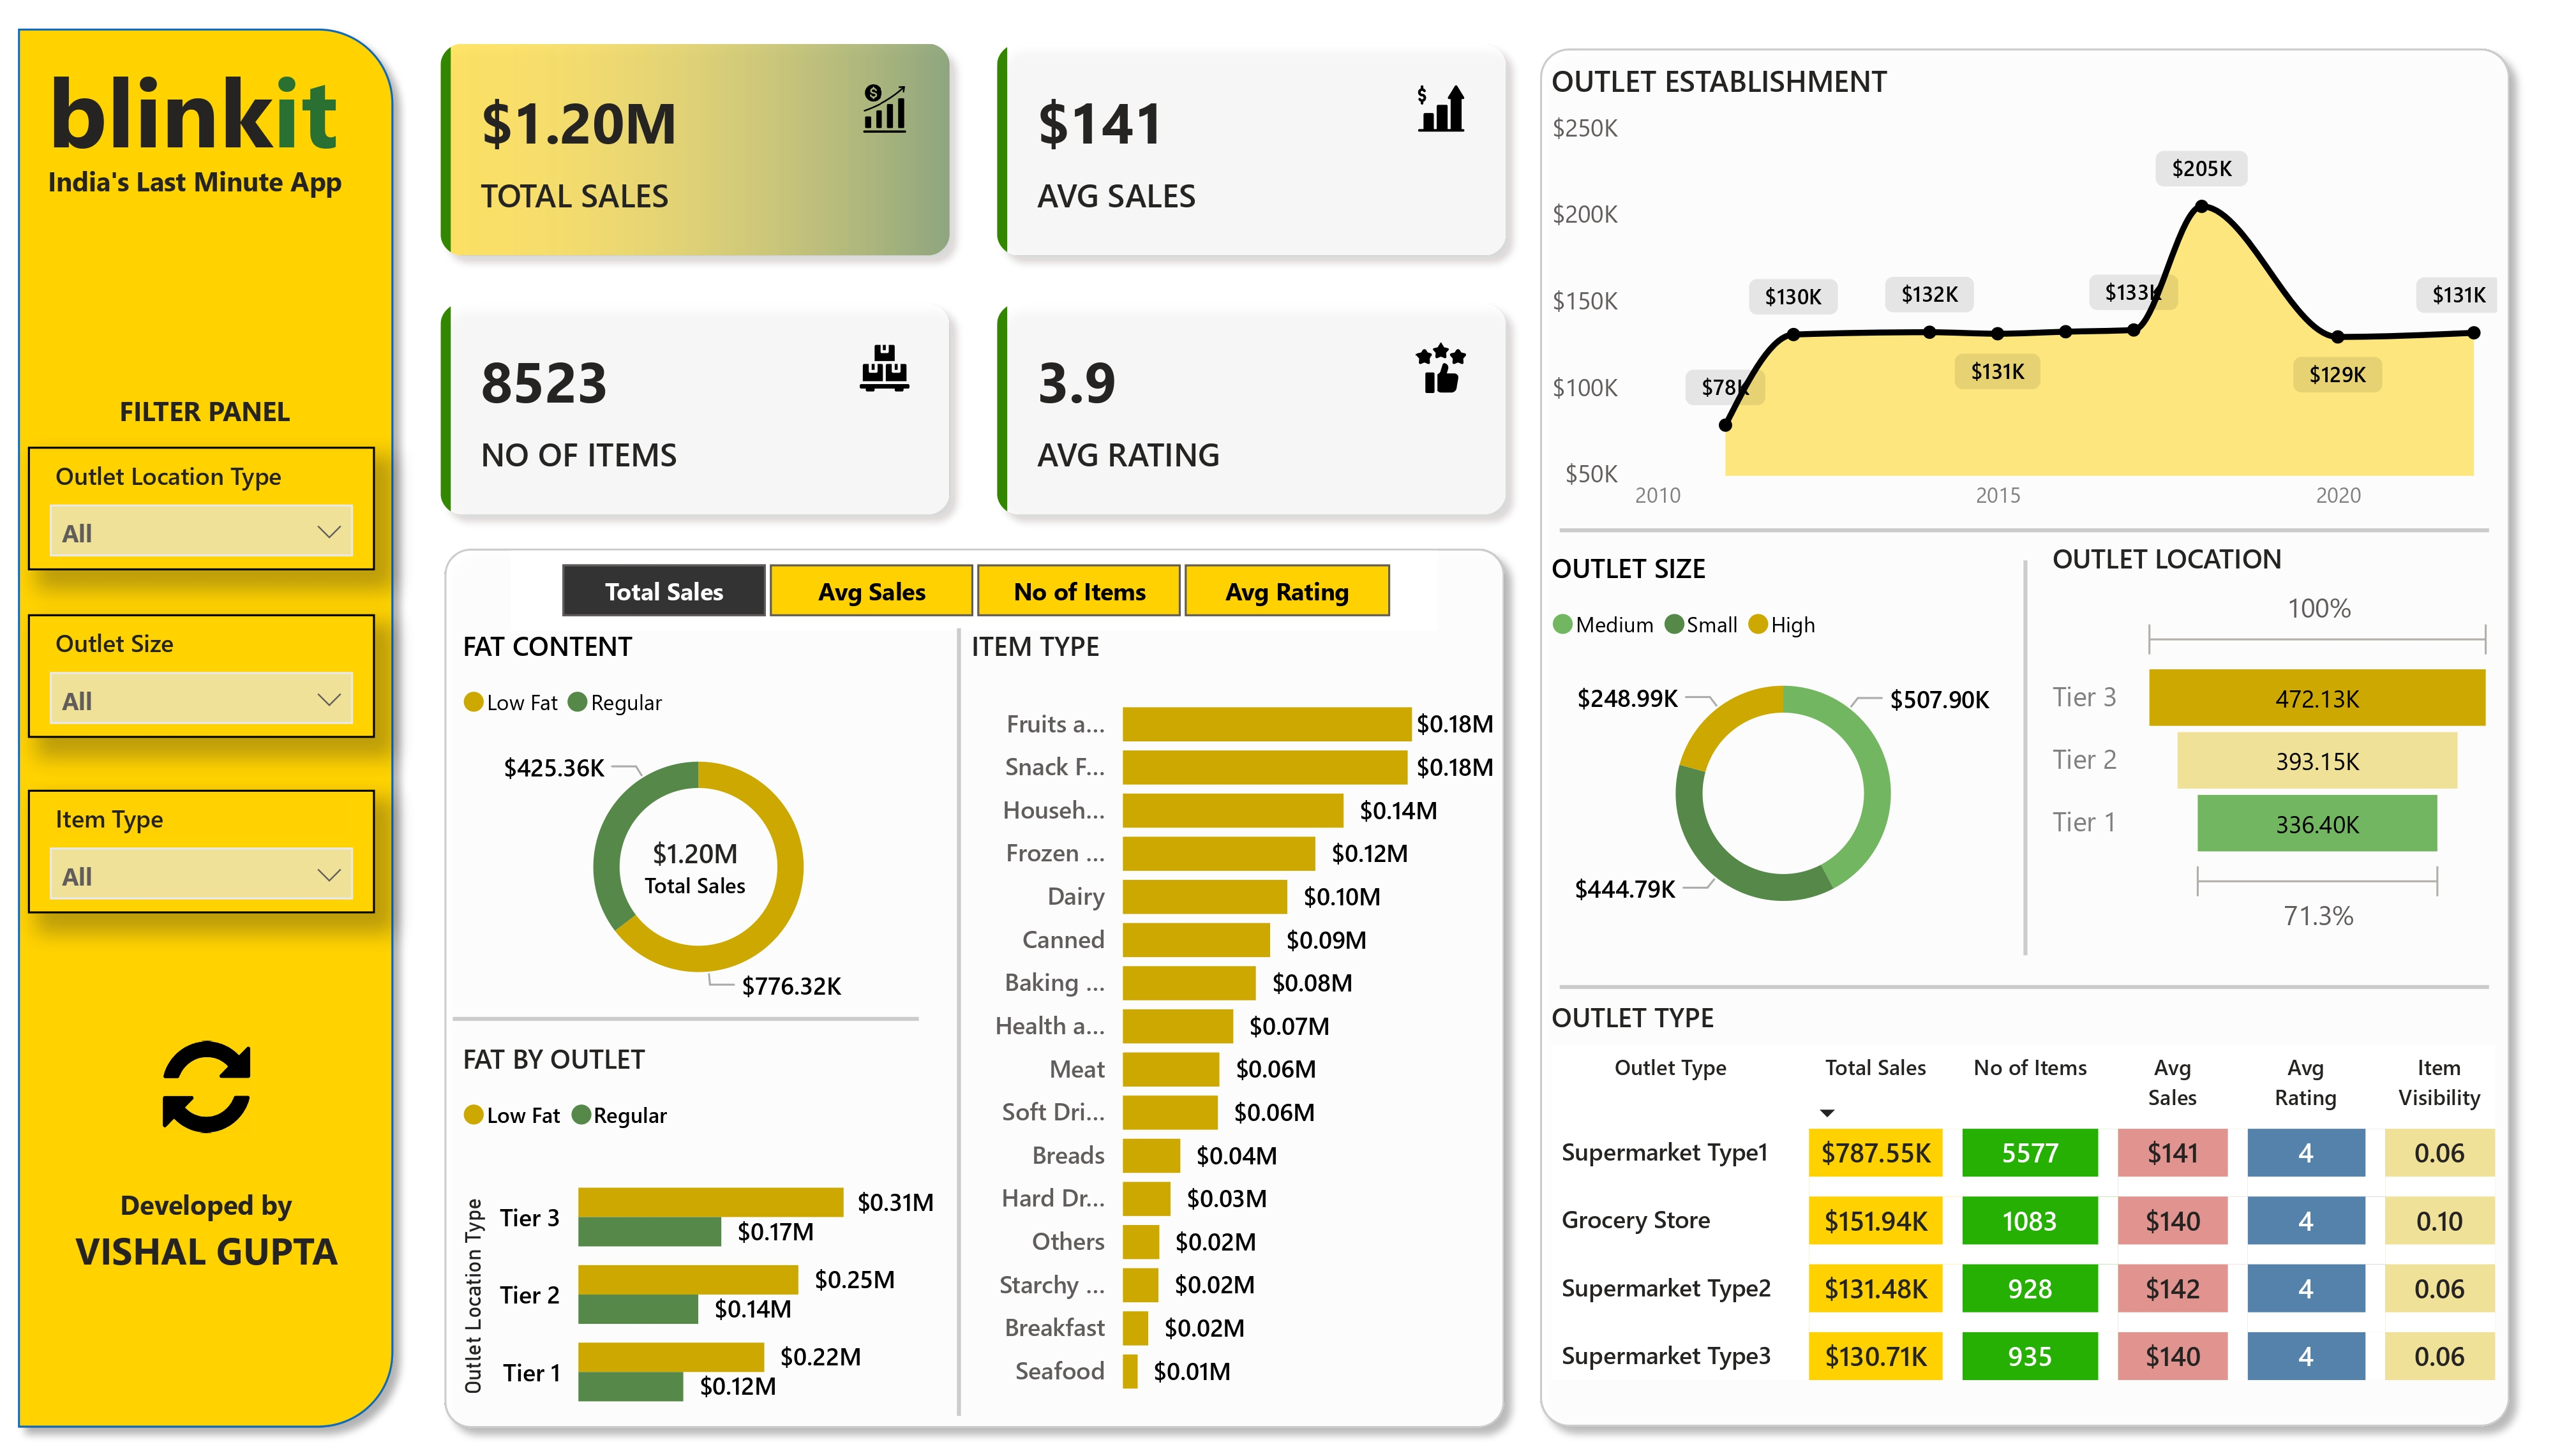

The dashboard page shown, as its layout file describes it:
{"tool":"powerbi","page":{"name":"Page 1","canvas":[1280,720],"ordinal":0},"visuals":[{"type":"shape","box":[0,0,206.2,720],"z":0},{"type":"textbox","box":[19.2,12.3,164.7,75.5],"z":1000},{"type":"textbox","box":[19.1,71.5,169.3,32.2],"z":2000},{"type":"cardVisual","fields":{"Data":["BlinkIT Grocery Data.Total Sales","BlinkIT Grocery Data.AVG Sales","BlinkIT Grocery Data.No of Items","BlinkIT Grocery Data.Avg Rating"]},"box":[204.5,0,569.5,270.3],"z":3000},{"type":"shape","box":[213.9,260.6,549.5,458.9],"z":4000},{"type":"donutChart","title":"FAT CONTENT","fields":{"Y":["BlinkIT Grocery Data.Total Sales"],"Category":["BlinkIT Grocery Data.Item Fat Content"]},"box":[226.6,310.2,246.4,194],"z":5000},{"type":"slicer","fields":{"Values":["Metrics.Metrics"]},"box":[256.3,270.5,464.5,39.7],"z":6000},{"type":"cardVisual","fields":{"Data":["BlinkIT Grocery Data.Total Sales"]},"box":[283.2,390.9,131.7,77.9],"z":7000},{"type":"clusteredBarChart","title":"FAT BY OUTLET","fields":{"Y":["BlinkIT Grocery Data.Total Sales"],"Category":["BlinkIT Grocery Data.Outlet Location Type"],"Series":["BlinkIT Grocery Data.Item Fat Content"]},"box":[226.6,516.9,246.4,202.5],"z":8000},{"type":"shape","box":[226.6,495.7,233.7,19.8],"z":9000},{"type":"shape","box":[473,310.2,15.6,395.1],"z":10000},{"type":"clusteredBarChart","title":"ITEM TYPE","fields":{"Y":["BlinkIT Grocery Data.Total Sales"],"Category":["BlinkIT Grocery Data.Item Type"]},"box":[481.5,310.2,271.9,395.1],"z":11000},{"type":"shape","box":[763.4,9.9,504.2,709.5],"z":12000},{"type":"lineChart","title":"OUTLET ESTABLISHMENT","fields":{"Y":["BlinkIT Grocery Data.Total Sales"],"Category":["BlinkIT Grocery Data.Outlet Establishment Year"]},"box":[773.3,25.5,484.4,235.1],"z":13000},{"type":"shape","box":[781.8,250.7,465.9,19.8],"z":14000},{"type":"donutChart","title":"OUTLET SIZE","fields":{"Y":["BlinkIT Grocery Data.Total Sales"],"Category":["BlinkIT Grocery Data.Outlet Size"]},"box":[773.3,270.5,242.2,198.3],"z":15000},{"type":"funnel","title":"OUTLET LOCATION","fields":{"Y":["Sum(BlinkIT Grocery Data.Sales)"],"Category":["BlinkIT Grocery Data.Outlet Location Type"]},"box":[1023.9,266.3,232.3,202.5],"z":16000},{"type":"shape","box":[1006.9,276.2,17,198.3],"z":17000},{"type":"shape","box":[781.8,480.1,465.9,19.8],"z":18000},{"type":"pivotTable","title":"OUTLET TYPE","fields":{"Rows":["BlinkIT Grocery Data.Outlet Type"],"Values":["BlinkIT Grocery Data.Total Sales","BlinkIT Grocery Data.No of Items","BlinkIT Grocery Data.Avg Sales","BlinkIT Grocery Data.Avg Rating","Avg(BlinkIT Grocery Data.Item Visibility)"]},"box":[773.3,495.7,482.9,203.9],"z":19000},{"type":"slicer","fields":{"Values":["BlinkIT Grocery Data.Outlet Location Type"]},"box":[14.3,219.3,174,62],"z":20000},{"type":"slicer","fields":{"Values":["BlinkIT Grocery Data.Outlet Size"]},"box":[14.3,302.8,174,62],"z":21000},{"type":"slicer","fields":{"Values":["BlinkIT Grocery Data.Item Type"]},"box":[14.3,391,174,62],"z":22000},{"type":"textbox","box":[46.5,187.1,113.2,29.8],"z":23000},{"type":"actionButton","box":[81.1,517.3,45.3,46.5],"z":24000},{"type":"textbox","box":[41.7,585.3,122.8,33.4],"z":25000},{"type":"textbox","box":[19.1,604.4,169.3,39.3],"z":26000}]}

Visuals, with their boxes in screenshot pixels (x1, y1, x2, y2), scaled from the page's 1280x720 canvas onto the 2553x1456 screenshot:
shape: 0, 0, 411, 1455
textbox: 38, 25, 367, 177
textbox: 38, 145, 376, 210
cardVisual - BlinkIT Grocery Data.Total Sales x BlinkIT Grocery Data.AVG Sales: 408, 0, 1544, 547
shape: 426, 527, 1523, 1455
"FAT CONTENT" donutChart: 452, 627, 943, 1020
slicer - Metrics.Metrics: 511, 547, 1437, 627
cardVisual - BlinkIT Grocery Data.Total Sales: 565, 791, 828, 948
"FAT BY OUTLET" clusteredBarChart: 452, 1045, 943, 1455
shape: 452, 1002, 918, 1043
shape: 943, 627, 975, 1426
"ITEM TYPE" clusteredBarChart: 961, 627, 1502, 1426
shape: 1523, 20, 2528, 1455
"OUTLET ESTABLISHMENT" lineChart: 1543, 52, 2508, 527
shape: 1559, 507, 2489, 547
"OUTLET SIZE" donutChart: 1543, 547, 2025, 948
"OUTLET LOCATION" funnel: 2042, 539, 2506, 948
shape: 2009, 558, 2042, 960
shape: 1559, 971, 2489, 1011
"OUTLET TYPE" pivotTable: 1543, 1002, 2506, 1415
slicer - BlinkIT Grocery Data.Outlet Location Type: 29, 443, 375, 569
slicer - BlinkIT Grocery Data.Outlet Size: 29, 613, 375, 738
slicer - BlinkIT Grocery Data.Item Type: 29, 791, 375, 916
textbox: 93, 378, 318, 438
actionButton: 161, 1046, 252, 1140
textbox: 83, 1184, 328, 1251
textbox: 38, 1222, 376, 1302
